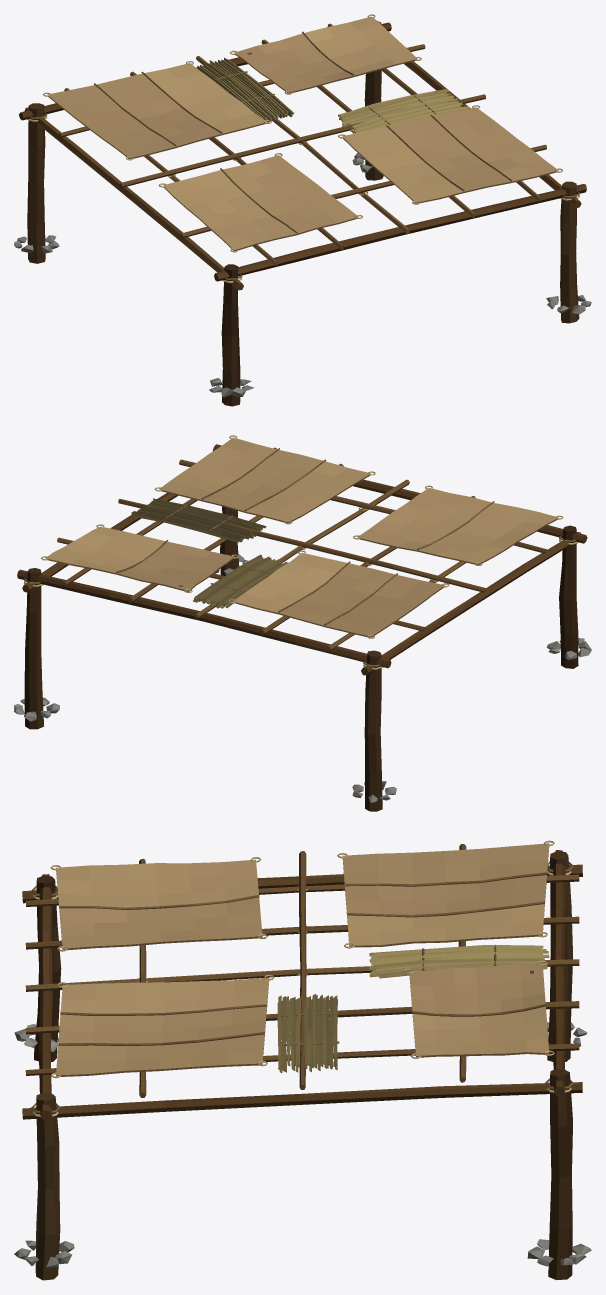
Rendered from covered_depot_3_finito.glb.
The picture shows the model from 3 angles, top to bottom: view 1: azimuth 30°, elevation 25°; view 2: azimuth 150°, elevation 25°; view 3: azimuth 270°, elevation 25°; orthographic projection. The views are drawn at different scales.
Visible parts, largest first — view 1: covered_depot_3_finito; view 2: covered_depot_3_finito; view 3: covered_depot_3_finito.
Part boxes in pixels (x1,y1,x2,y2): covered_depot_3_finito: [14, 14, 591, 406]; covered_depot_3_finito: [14, 435, 591, 811]; covered_depot_3_finito: [14, 840, 591, 1280].
Size of the model in its own units: 8.59 by 3.68 by 8.67.
